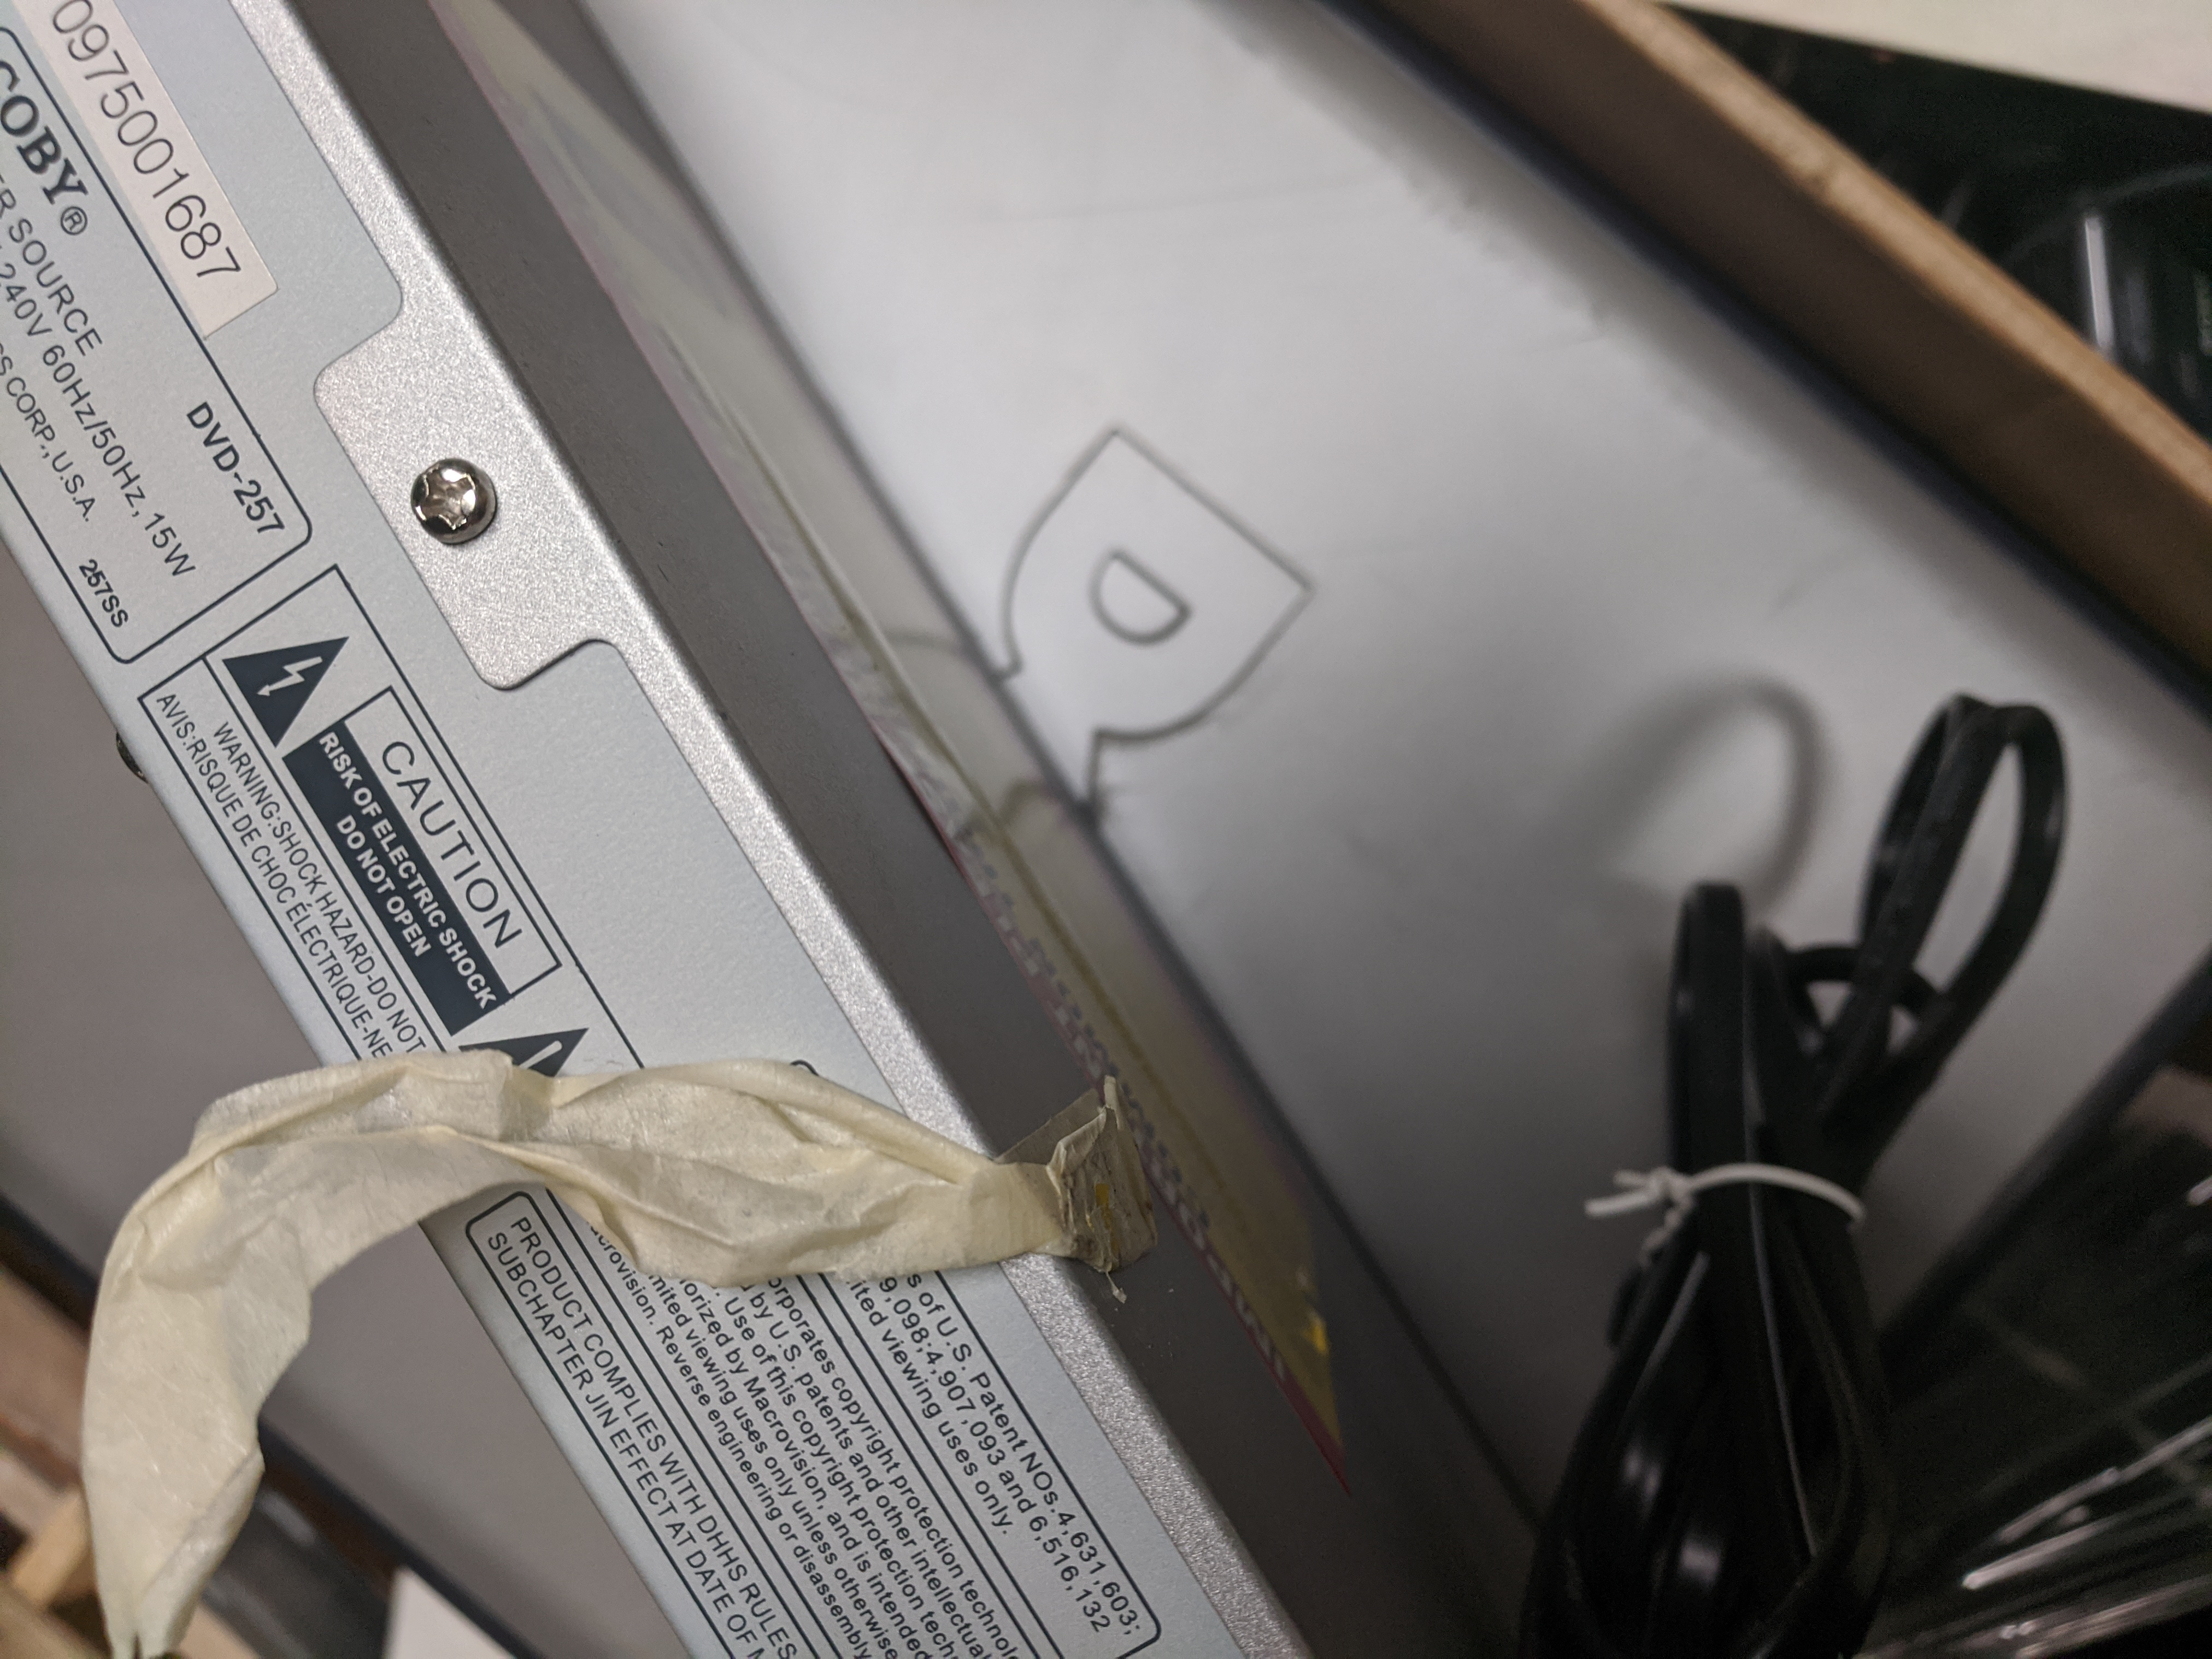cross_recessed_screw: (395, 448, 496, 538)
